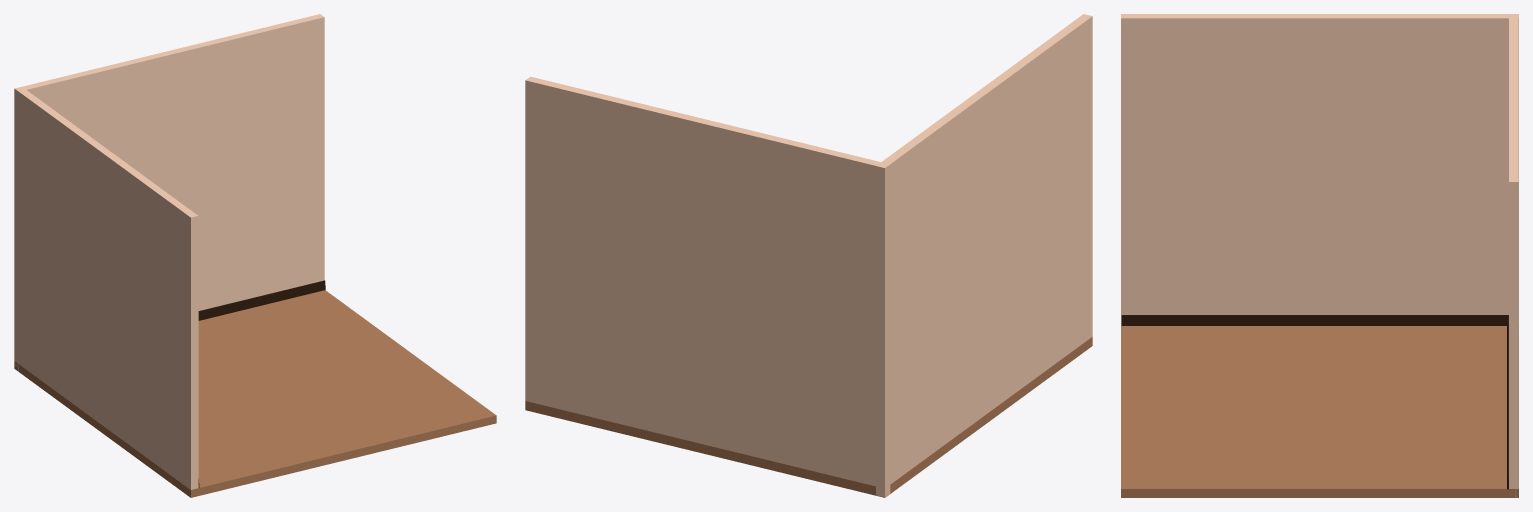
Rendered from RoomModel.obj.
3 renders of one model, left to right at view 1: azimuth 30°, elevation 25°; view 2: azimuth 150°, elevation 25°; view 3: azimuth 270°, elevation 25°, orthographic. The views are drawn at different scales.
Parts seen in each view (by area): view 1: roomModel; view 2: roomModel; view 3: roomModel.
Part boxes in pixels (x1,y1,x2,y2): roomModel: [14, 14, 496, 497]; roomModel: [525, 14, 1092, 497]; roomModel: [1121, 14, 1518, 497].
Size of the model in its own units: 212 by 186 by 212.
